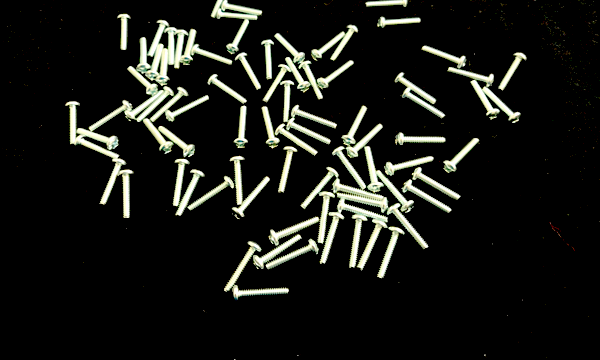longscrew: (224, 240, 264, 294), (386, 203, 430, 251), (252, 233, 303, 272), (188, 175, 236, 214), (401, 179, 453, 215), (265, 238, 320, 272), (375, 170, 417, 214), (231, 176, 271, 221), (411, 167, 462, 202), (356, 219, 389, 272), (300, 167, 340, 210), (331, 145, 368, 191), (268, 215, 321, 247), (399, 87, 447, 121), (175, 168, 207, 219), (376, 227, 406, 280), (274, 123, 319, 158), (98, 158, 129, 208), (89, 99, 134, 133), (482, 87, 523, 124), (319, 212, 347, 266), (393, 72, 437, 106), (442, 137, 481, 175), (136, 86, 175, 124), (150, 87, 191, 123), (345, 123, 384, 160), (124, 89, 165, 123), (285, 118, 333, 147), (165, 94, 211, 124), (207, 74, 248, 107), (470, 80, 502, 122), (331, 178, 386, 202), (291, 104, 339, 131), (158, 125, 197, 158), (336, 199, 389, 223), (232, 285, 291, 306), (262, 64, 292, 105), (275, 146, 300, 195), (142, 118, 175, 155), (347, 215, 369, 270), (329, 25, 360, 64), (498, 52, 528, 92), (298, 59, 325, 103), (317, 60, 355, 91), (74, 135, 121, 160), (384, 155, 435, 178), (235, 52, 263, 93), (337, 192, 389, 214), (342, 105, 369, 147), (274, 32, 307, 65), (126, 65, 160, 97), (311, 31, 346, 62), (421, 46, 468, 69), (317, 191, 337, 245), (446, 66, 495, 88), (363, 146, 385, 194), (116, 169, 136, 221), (190, 44, 234, 67), (172, 158, 192, 208), (285, 57, 312, 94), (77, 128, 120, 151), (229, 156, 248, 207), (260, 106, 281, 150), (226, 19, 251, 55), (395, 132, 447, 149), (148, 19, 170, 59), (65, 100, 82, 146), (221, 0, 264, 18), (145, 43, 165, 81), (377, 15, 422, 31), (280, 80, 296, 124), (180, 29, 198, 67), (173, 28, 189, 70), (116, 13, 132, 54), (233, 106, 248, 149), (216, 8, 259, 23), (262, 39, 276, 81), (164, 26, 178, 67), (136, 36, 151, 74), (156, 48, 171, 86), (209, 0, 233, 20), (365, 0, 409, 10)
